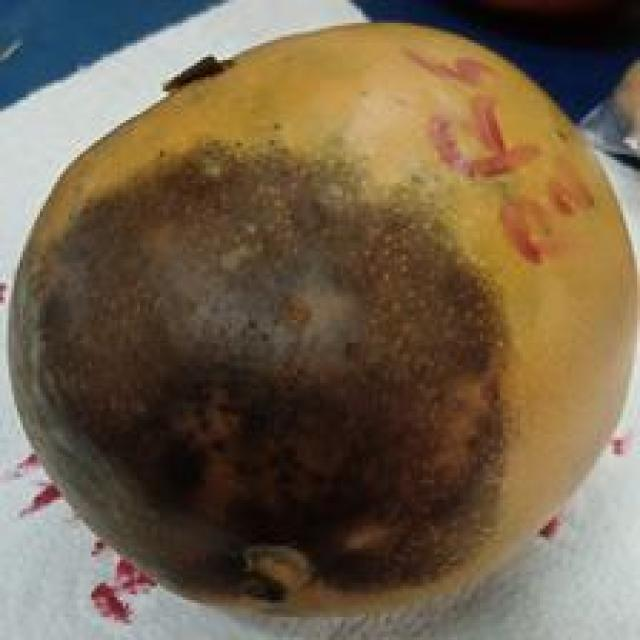Bad_Mango: (14, 25, 634, 614)
